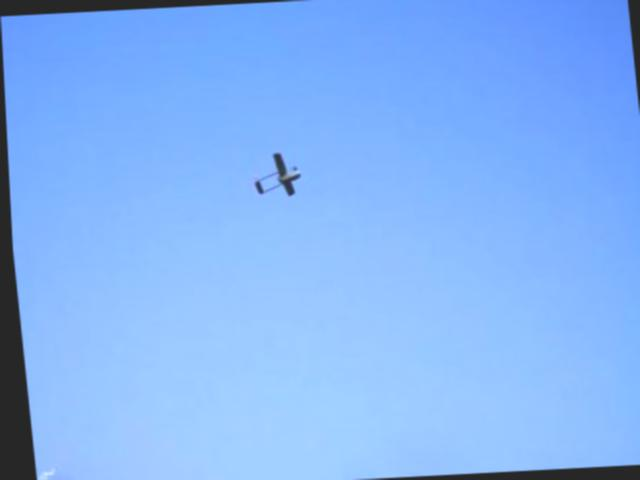uav: (247, 152, 300, 200)
